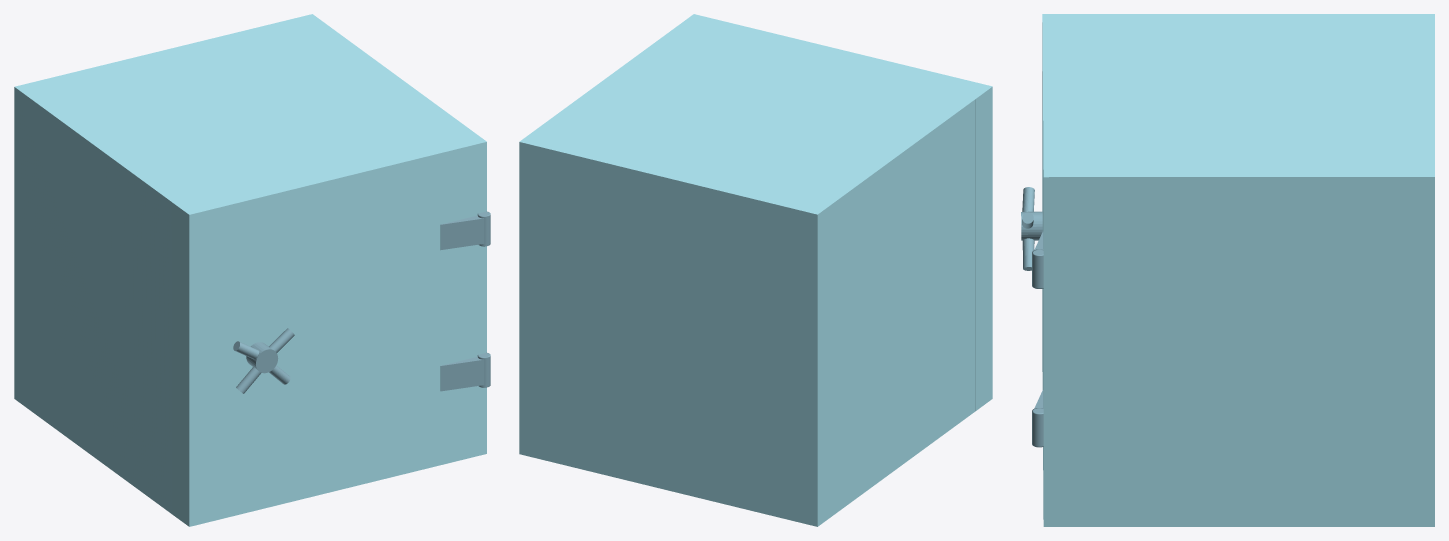
The model's file is case1 (1).fbx.
3 views of the same model, side by side, from view 1: azimuth 30°, elevation 25°; view 2: azimuth 150°, elevation 25°; view 3: azimuth 270°, elevation 25° (orthographic). The views are drawn at different scales.
Visible parts, largest first — view 1: Cube.001, Cube; view 2: Cube, Cube.001; view 3: Cube, Cube.001.
Part boxes in pixels (x1,y1,x2,y2): Cube.001: (172, 129, 490, 526); Cube: (14, 14, 469, 513); Cube: (519, 26, 975, 526); Cube.001: (678, 14, 992, 411); Cube: (1080, 14, 1434, 526); Cube.001: (1021, 14, 1080, 526).
Bounding box in the file's own units: 201 × 200 × 214.
